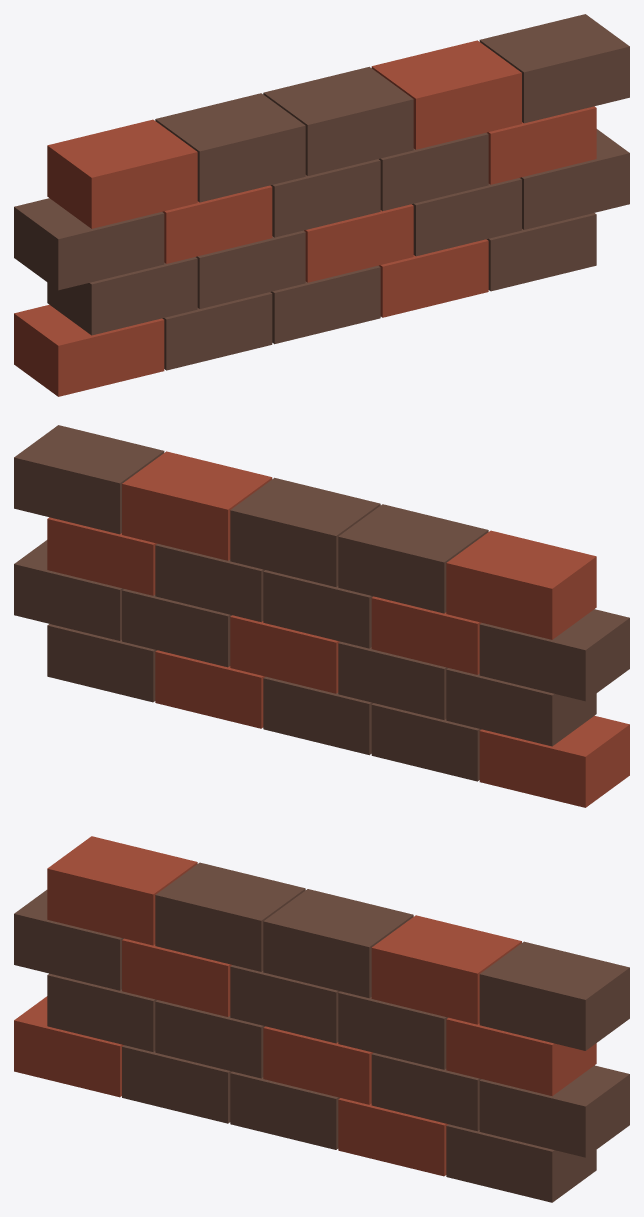
Rendered from 091_laterite_wall_segment.glb.
3 renders of one model, top to bottom at view 1: azimuth 30°, elevation 25°; view 2: azimuth 150°, elevation 25°; view 3: azimuth 330°, elevation 25°, orthographic.
Parts seen in each view (by area): view 1: Laterite wall segment; view 2: Laterite wall segment; view 3: Laterite wall segment.
Part boxes in pixels (x1,y1,x2,y2): Laterite wall segment: (14, 14, 629, 396); Laterite wall segment: (14, 425, 629, 807); Laterite wall segment: (14, 836, 629, 1202).
Size of the model in its own units: 2.75 by 0.97 by 0.37.
